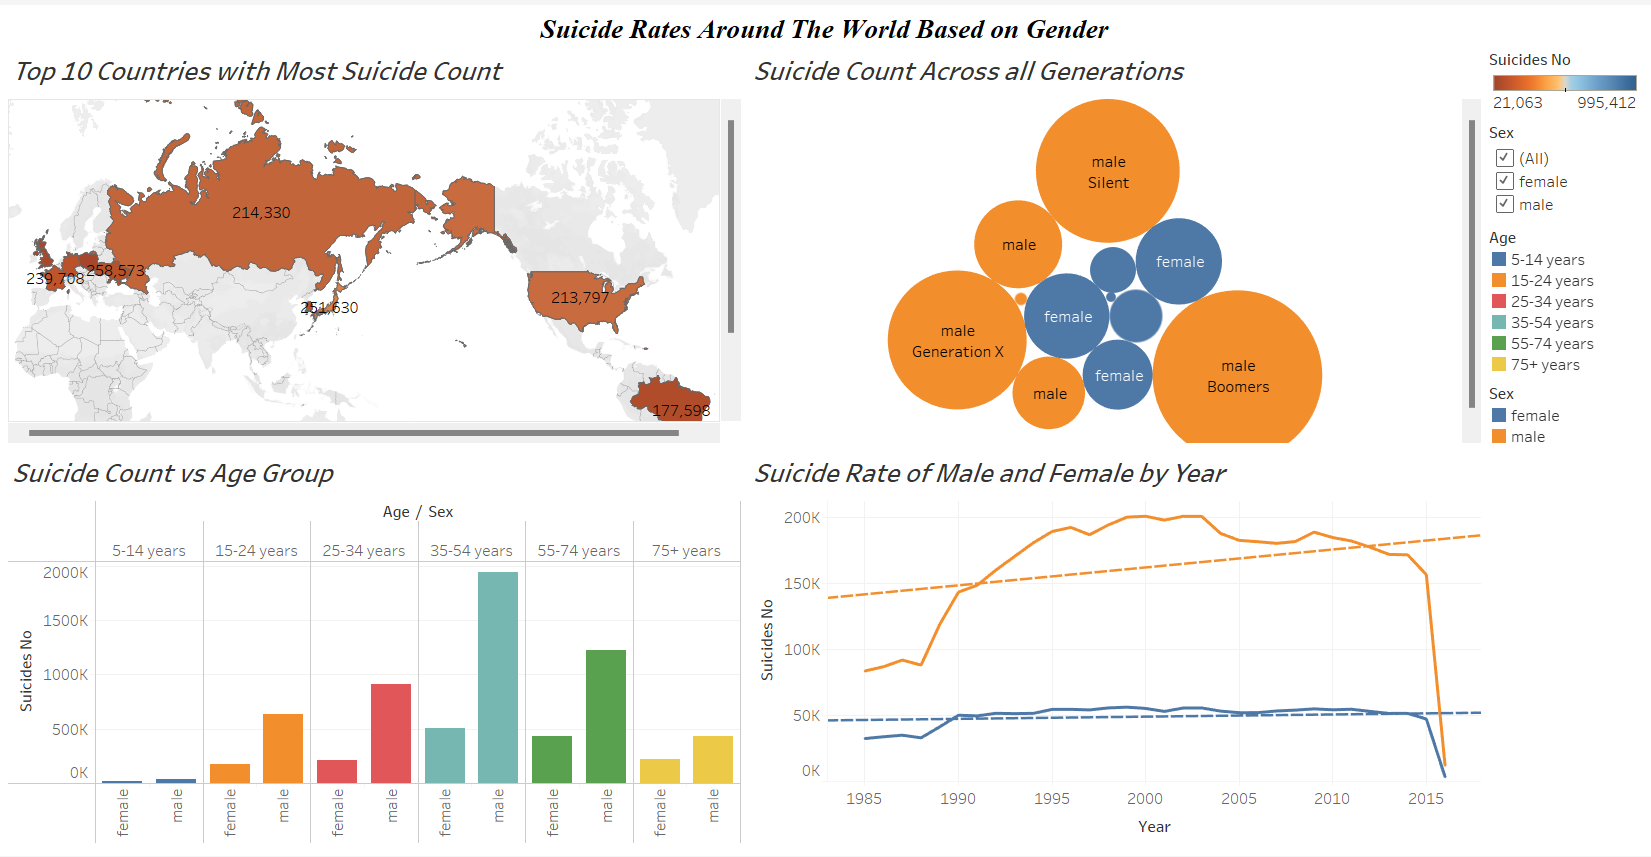

What the dashboard file says about the page in this screenshot:
{"tool":"tableau","page":{"name":"Dashboard 1","canvas":[1000,1000],"units":"permille","ordinal":0},"visuals":[{"type":"text","box":[4.8,9.4,990.3,37.6]},{"type":"worksheet","title":"Top 10 Countries with Most Suicide Count","mark":"Automatic","box":[4.8,47,446.9,471.8]},{"type":"worksheet","title":"Suicide Count Across all Generations","mark":"Circle","box":[451.7,47,446.9,471.8]},{"type":"legend","title":"Top 10 Countries with Most Suicide Count","param":"[federated.0fsm6a00prk1hu12nzkmv17azrba].[sum:suicides_no:qk]","box":[898.6,47,96.6,85.8]},{"type":"filter","title":"Suicide Count vs Age Group","param":"[federated.0fsm6a00prk1hu12nzkmv17azrba].[none:sex:nk]","box":[898.6,132.8,96.6,123.4]},{"type":"legend","title":"Suicide Count vs Age Group","param":"[federated.0fsm6a00prk1hu12nzkmv17azrba].[none:age:nk]","box":[898.6,256.2,96.6,183.3]},{"type":"legend","title":"Suicide Count Across all Generations","param":"[federated.0fsm6a00prk1hu12nzkmv17azrba].[none:sex:nk]","box":[898.6,439.5,96.6,84.6]},{"type":"worksheet","title":"Suicide Count vs Age Group","mark":"Automatic","rows":["suicides_no"],"cols":["age","sex"],"box":[4.8,518.8,446.9,471.8]},{"type":"worksheet","title":"Suicide Rate of Male and Female by Year","mark":"Automatic","rows":["suicides_no"],"cols":["year"],"box":[451.7,518.8,446.9,471.8]}]}

Visuals, with their boxes on the dashboard's canvas, which has no fixed pixel size, in thousandths of its width and height (x1, y1, x2, y2). These are canvas units, not pixel positions in the 1651x857 screenshot, which may show the page scaled, cropped or inside an application window:
text: (5,9,995,47)
"Top 10 Countries with Most Suicide Count" worksheet: (5,47,452,519)
"Suicide Count Across all Generations" worksheet (Circle marks): (452,47,899,519)
"Top 10 Countries with Most Suicide Count" legend: (899,47,995,133)
"Suicide Count vs Age Group" filter: (899,133,995,256)
"Suicide Count vs Age Group" legend: (899,256,995,440)
"Suicide Count Across all Generations" legend: (899,440,995,524)
"Suicide Count vs Age Group" worksheet: (5,519,452,991)
"Suicide Rate of Male and Female by Year" worksheet: (452,519,899,991)
